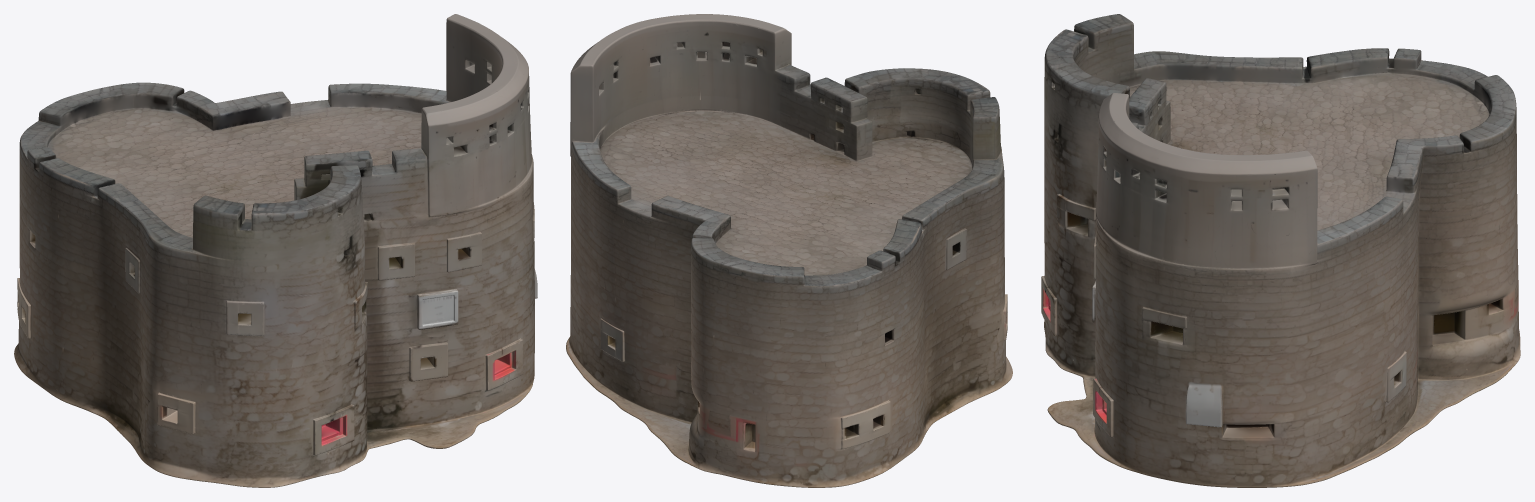
File: 梅花碉堡.glb
The picture shows the model from 3 angles, left to right: view 1: azimuth 30°, elevation 25°; view 2: azimuth 150°, elevation 25°; view 3: azimuth 270°, elevation 25°; orthographic projection. The views are drawn at different scales.
Visible parts, largest first — view 1: texture_pbr_v128; view 2: texture_pbr_v128; view 3: texture_pbr_v128.
Part boxes in pixels (bbox=[...]): texture_pbr_v128: bbox=[14, 14, 537, 487]; texture_pbr_v128: bbox=[566, 14, 1012, 487]; texture_pbr_v128: bbox=[1041, 14, 1520, 487].
Bounding box in the file's own units: 0.6939 × 0.5016 × 0.6725.
1 material, 1 textured.
